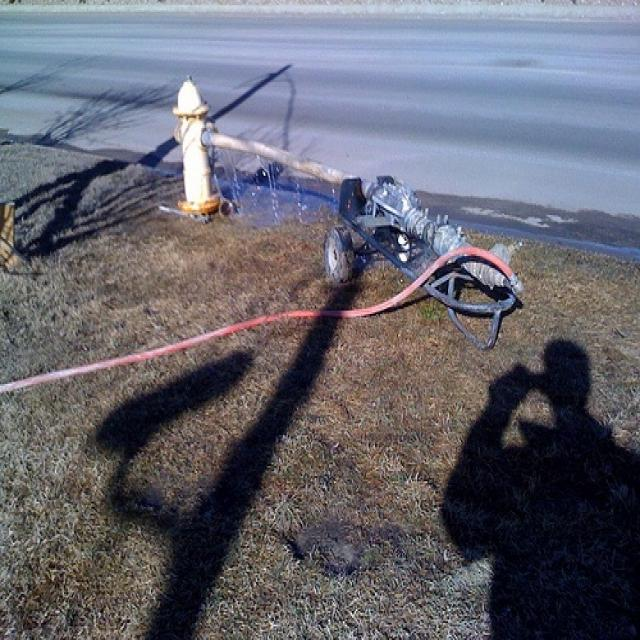fire_hydrant: (169, 70, 233, 215)
